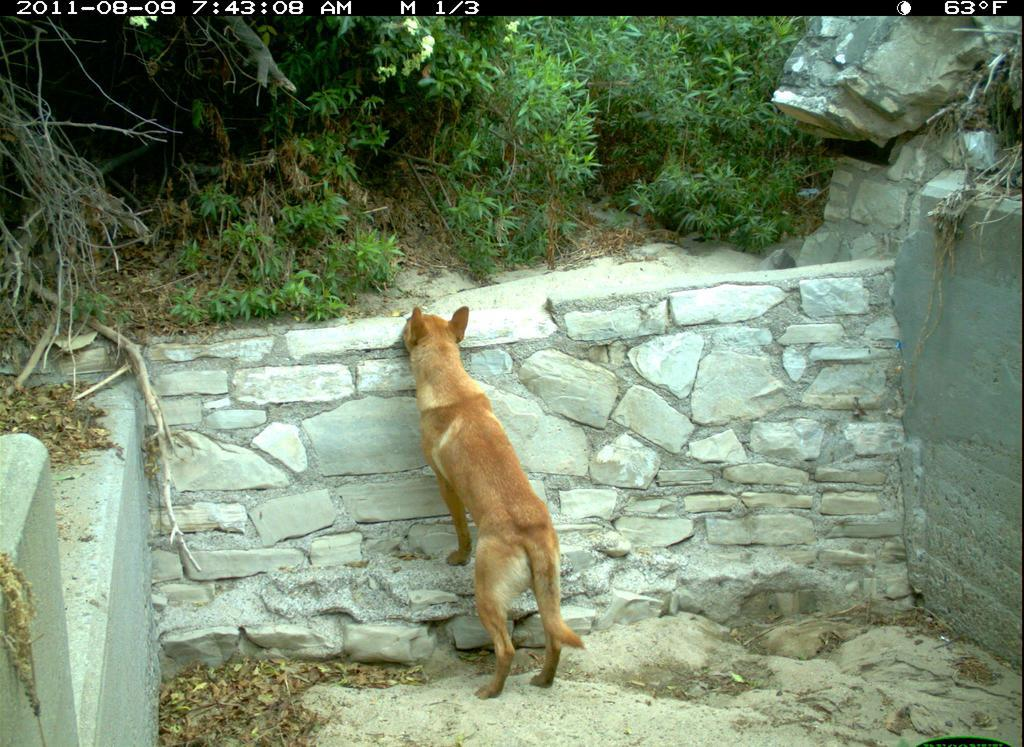dog: (392, 301, 584, 670)
